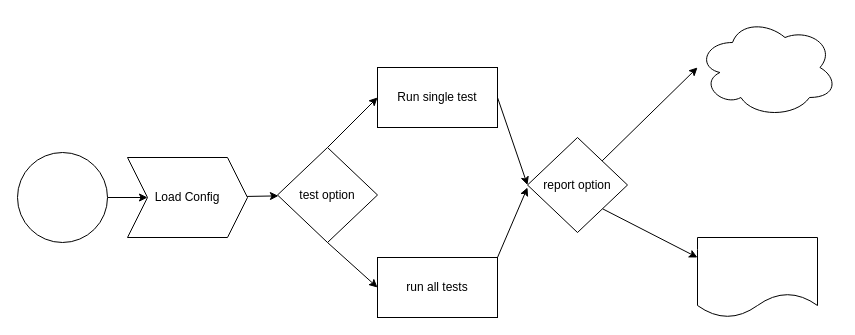
Image size: 855x335. Some labels were removed from this diagram. The shapes that lost their labels are listed below. From the top down, each one's centre as x and y in pixels, then its label:
the point at 767,67: published report
the point at 62,197: Start
the point at 757,277: local report
